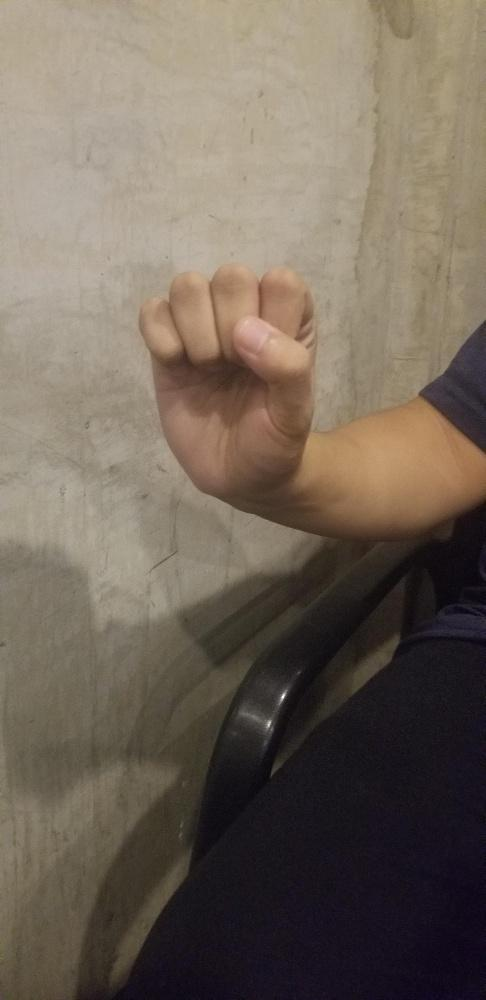s: (136, 262, 318, 496)
